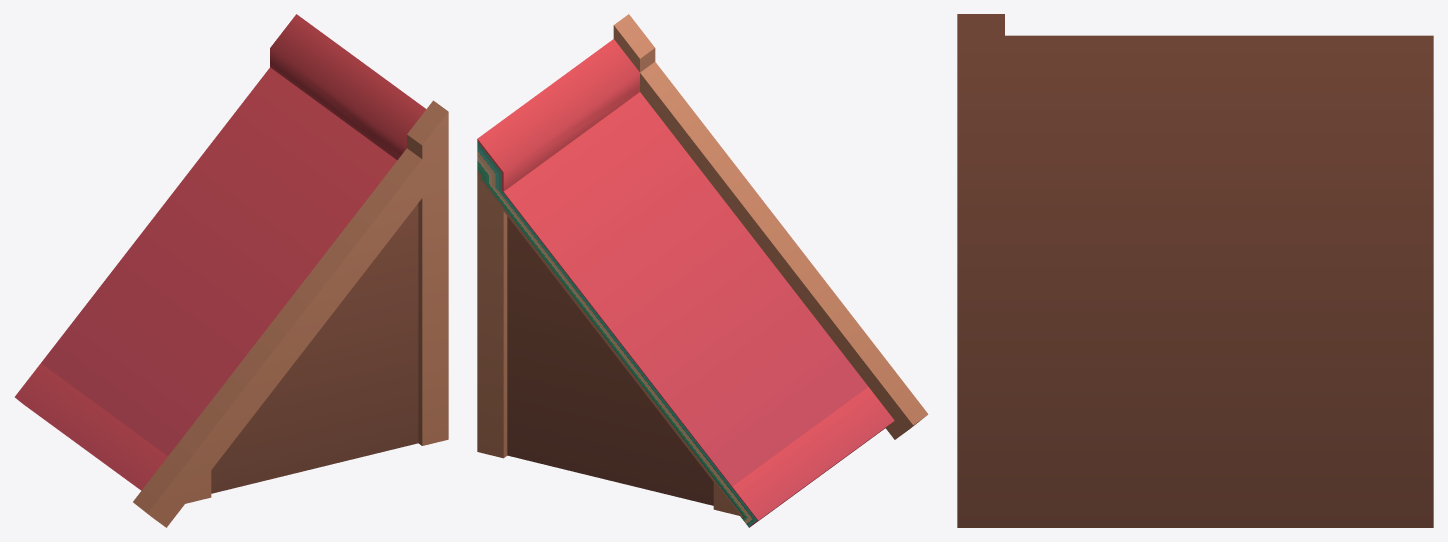
Rendered from roof-kn-roof-high-right.glb.
3 renders of one model, left to right at view 1: azimuth 30°, elevation 25°; view 2: azimuth 150°, elevation 25°; view 3: azimuth 270°, elevation 25°, orthographic. The views are drawn at different scales.
Parts seen in each view (by area): view 1: roof-high-right; view 2: roof-high-right; view 3: roof-high-right.
Boxes of the visible parts, box(x1,y1,x2,y2) form: roof-high-right: box(15, 14, 448, 527); roof-high-right: box(477, 14, 928, 527); roof-high-right: box(957, 14, 1433, 527).
Size of the model in its own units: 3.42 by 3.78 by 3.
1 material, 1 textured.
